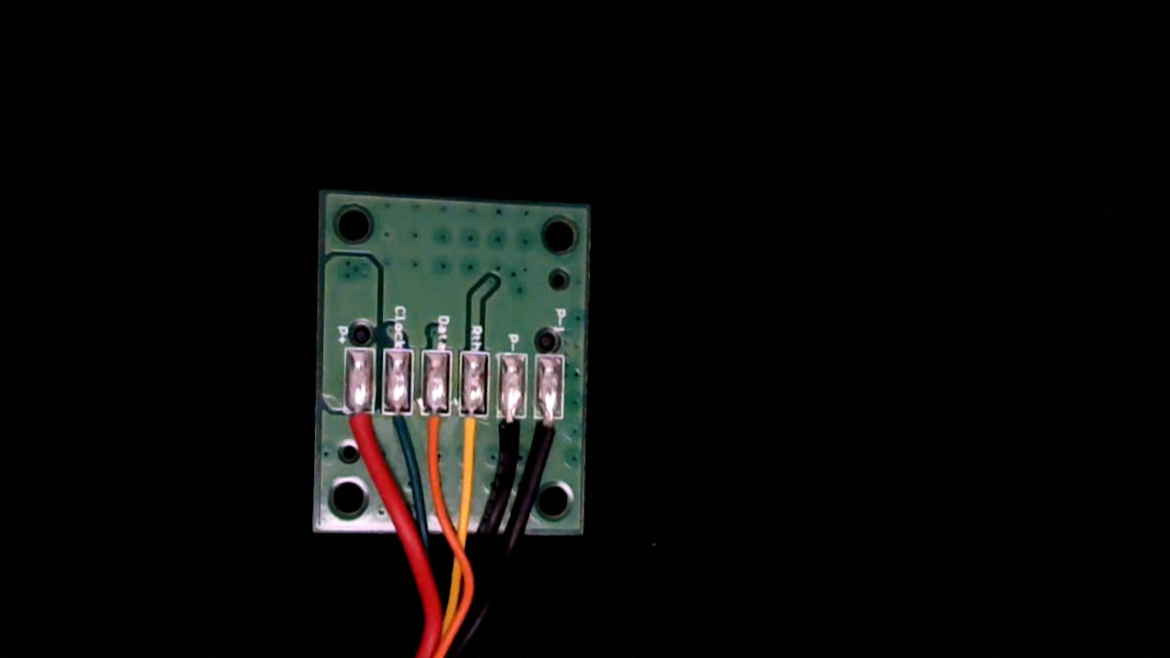Black: (495, 394, 528, 469)
Black1: (533, 397, 565, 466)
Green: (382, 385, 416, 457)
Orange: (419, 393, 451, 467)
Red: (344, 388, 379, 460)
Yellow: (458, 396, 491, 472)
